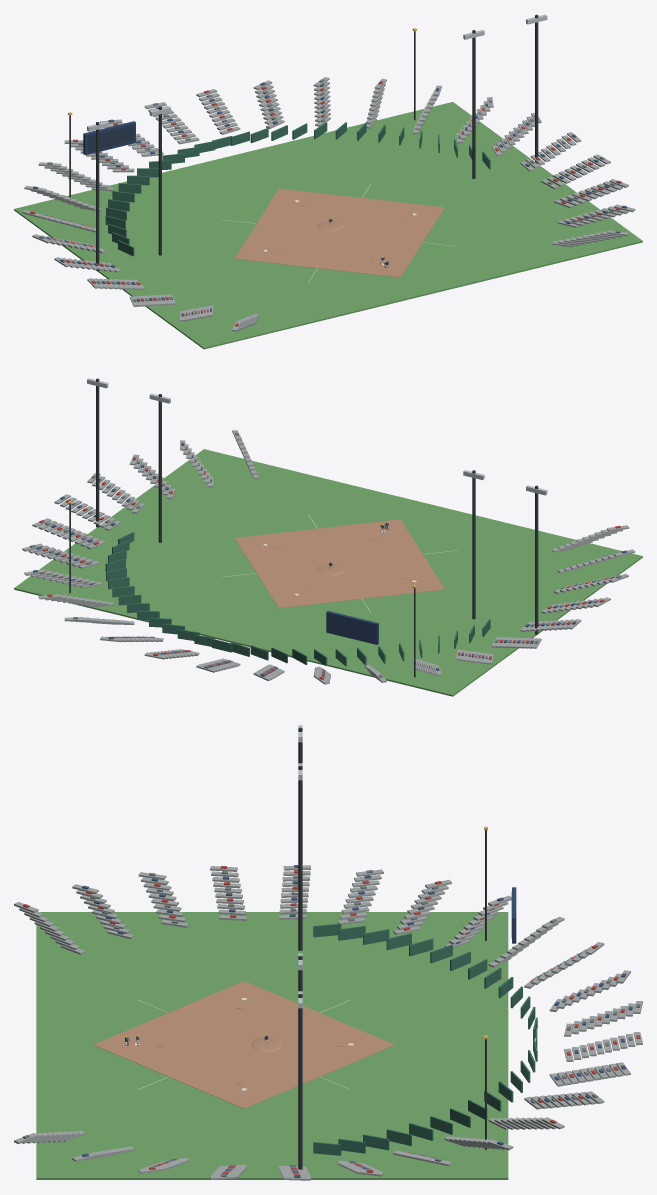
Rendered from park.glb.
3 views of the same model, one above another, from view 1: azimuth 30°, elevation 25°; view 2: azimuth 150°, elevation 25°; view 3: azimuth 270°, elevation 25° (orthographic). The views are drawn at different scales.
Visible parts, largest first — view 1: FIELD / full playing surface, STANDS / concrete terraces, FIELD / dirt infield diamond, FIELD / continuous padded outfield wall, OUTDOOR STADIUM / floodlight mast (×4), STANDS / Seat blue, STANDS / Seat gray, STANDS / Seat red, STADIUM / scoreboard display, STADIUM / scoreboard frame; view 2: FIELD / full playing surface, FIELD / dirt infield diamond, STANDS / concrete terraces, FIELD / continuous padded outfield wall, OUTDOOR STADIUM / floodlight mast (×4), STADIUM / scoreboard frame, STANDS / Seat red, STANDS / Seat gray, STANDS / Seat blue; view 3: FIELD / full playing surface, FIELD / dirt infield diamond, STANDS / concrete terraces, FIELD / continuous padded outfield wall, OUTDOOR STADIUM / floodlight mast (×2), STANDS / Seat blue, STANDS / Seat red, STANDS / Seat gray.
Part boxes in pixels (x1,y1,x2,y2): FIELD / full playing surface: (14,102,642,349); STANDS / concrete terraces: (22,77,635,331); FIELD / dirt infield diamond: (234,188,444,277); FIELD / continuous padded outfield wall: (105,122,490,256); OUTDOOR STADIUM / floodlight mast (×4): (96,14,538,270); STANDS / Seat blue: (33,82,627,316); STANDS / Seat gray: (37,79,620,315); STANDS / Seat red: (30,81,621,326); STADIUM / scoreboard display: (88,125,133,151); STADIUM / scoreboard frame: (83,121,135,155); FIELD / full playing surface: (14,449,642,696); FIELD / dirt infield diamond: (234,519,444,608); STANDS / concrete terraces: (22,430,635,684); FIELD / continuous padded outfield wall: (105,532,490,666); OUTDOOR STADIUM / floodlight mast (×4): (96,378,538,634); STADIUM / scoreboard frame: (326,611,378,644); STANDS / Seat red: (39,446,620,679); STANDS / Seat gray: (30,432,621,677); STANDS / Seat blue: (33,442,627,676); FIELD / full playing surface: (36,912,508,1179); FIELD / dirt infield diamond: (93,981,394,1108); STANDS / concrete terraces: (14,865,642,1180); FIELD / continuous padded outfield wall: (313,923,537,1155); OUTDOOR STADIUM / floodlight mast (×2): (298,765,302,1169); STANDS / Seat blue: (82,865,632,1177); STANDS / Seat red: (23,865,640,1175); STANDS / Seat gray: (23,870,640,1176).
Bounding box in the file's own units: 132 × 36.36 × 112.
